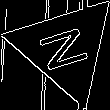N_E: (34, 21, 97, 75)
